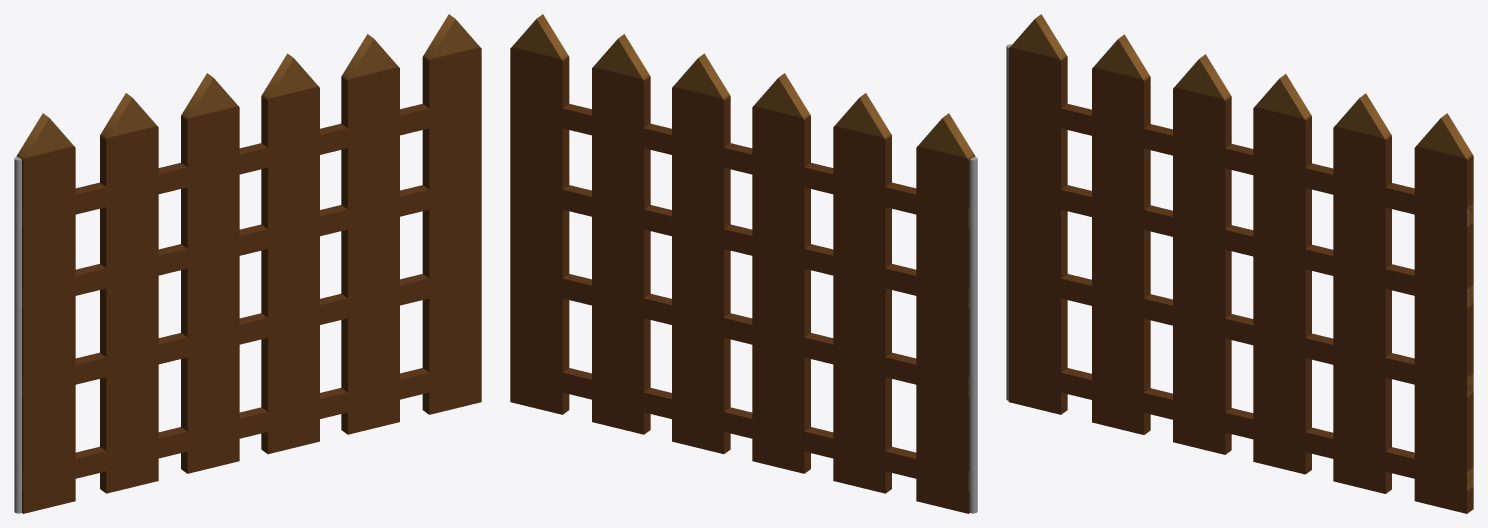
File: gatelowpoly.fbx
The picture shows the model from 3 angles, left to right: view 1: azimuth 30°, elevation 25°; view 2: azimuth 150°, elevation 25°; view 3: azimuth 330°, elevation 25°; orthographic projection.
Parts seen in each view (by area): view 1: pCylinder2; view 2: pCylinder2; view 3: pCylinder2.
Boxes of the visible parts, x1,y1,x2,y2 form: pCylinder2: (14, 14, 481, 513); pCylinder2: (510, 14, 977, 513); pCylinder2: (1006, 14, 1473, 513).
Bounding box in the file's own units: 2.87 × 2.31 × 0.0698.
